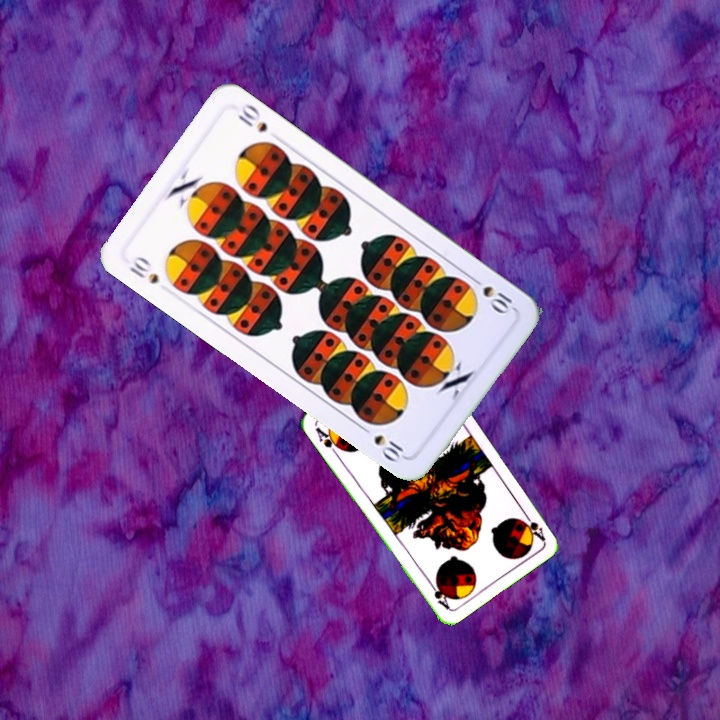S10: (466, 272, 517, 317), (125, 252, 162, 287)
SA: (311, 423, 345, 458), (519, 507, 548, 543)
